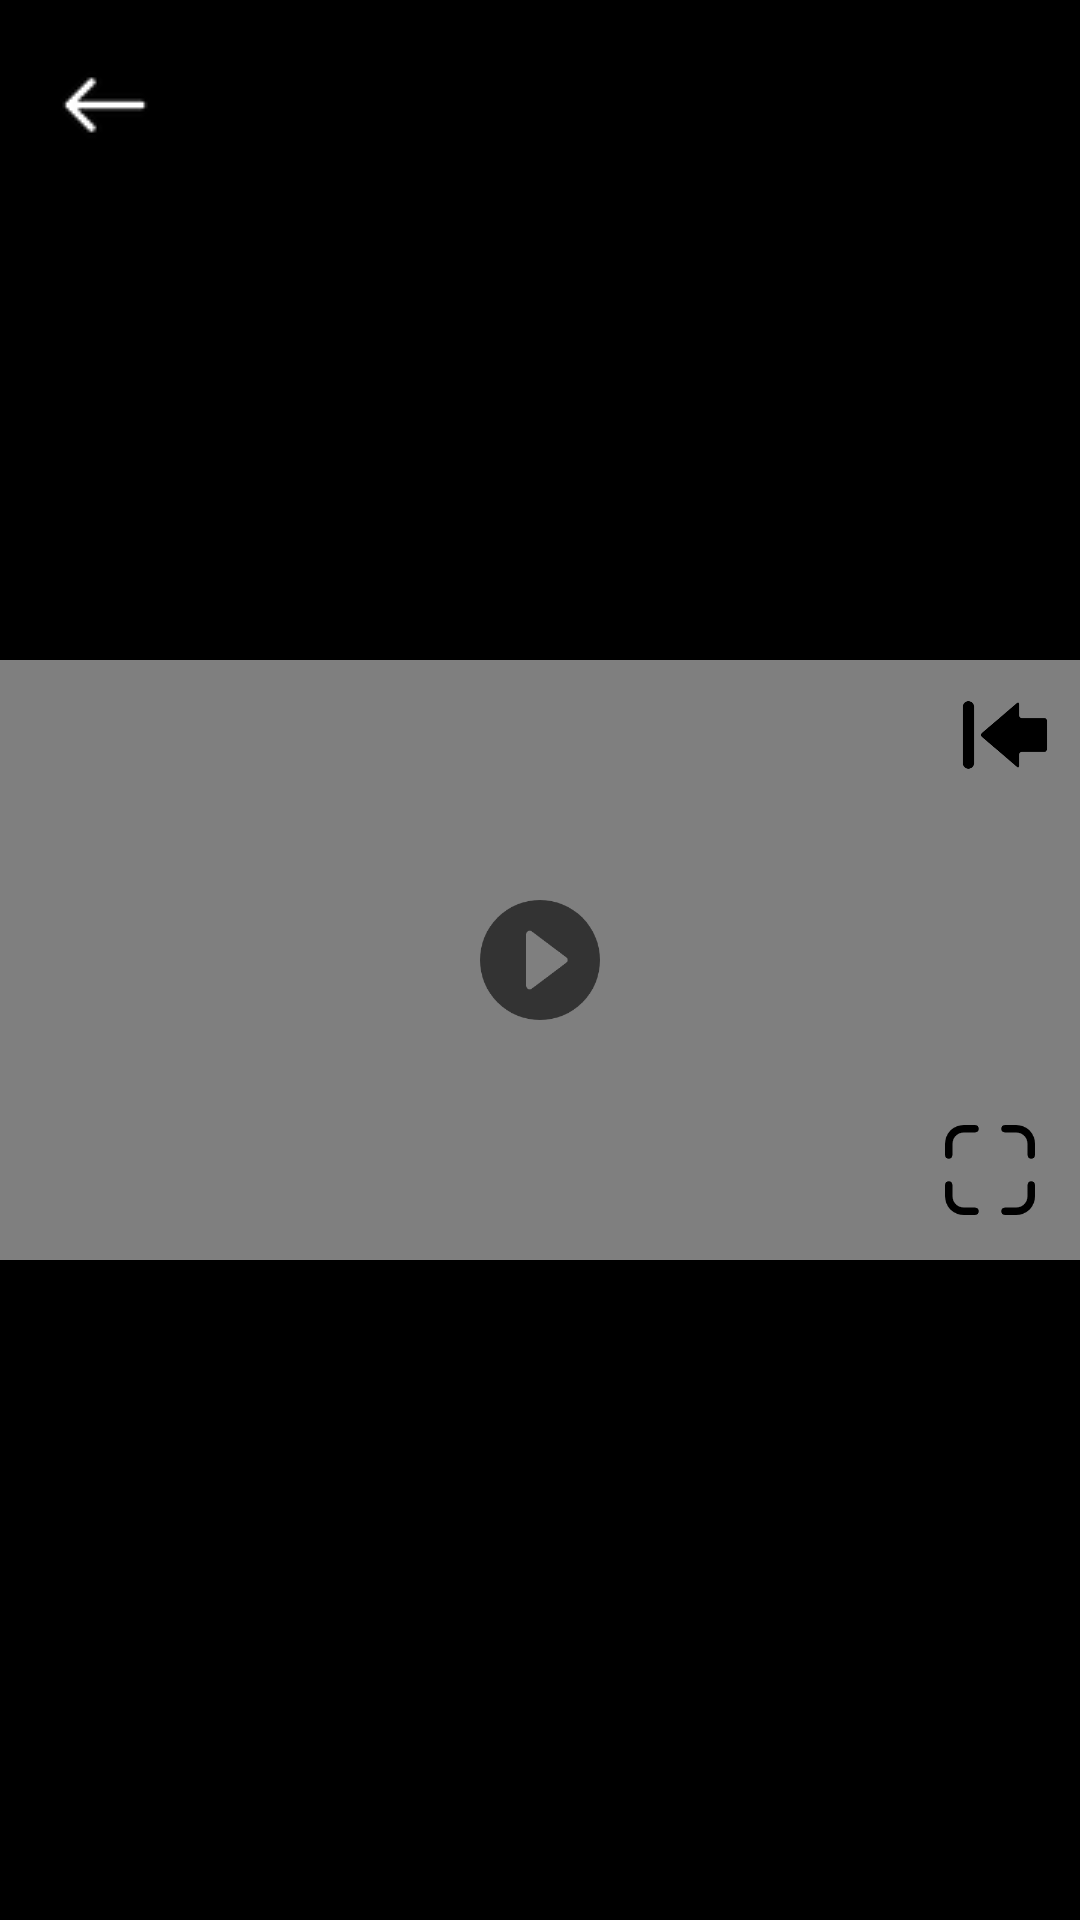

Icon click points for this 1080×1920 phone screenshot, format [x,y]:
arrow: [105,105]
back to begin: [1005,735]
play: [540,960]
